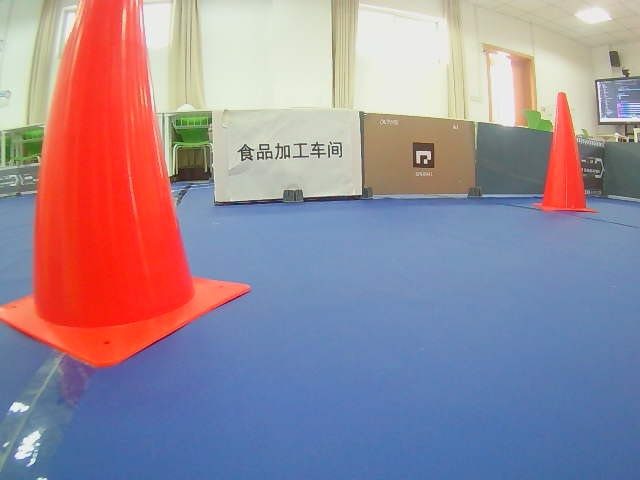target: (237, 138, 344, 163)
